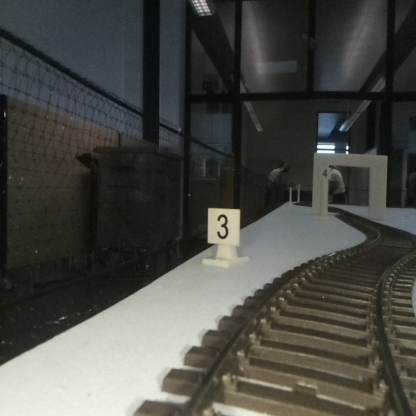white-info-4: (320, 166, 330, 216)
white-stop-3: (207, 209, 240, 265)
